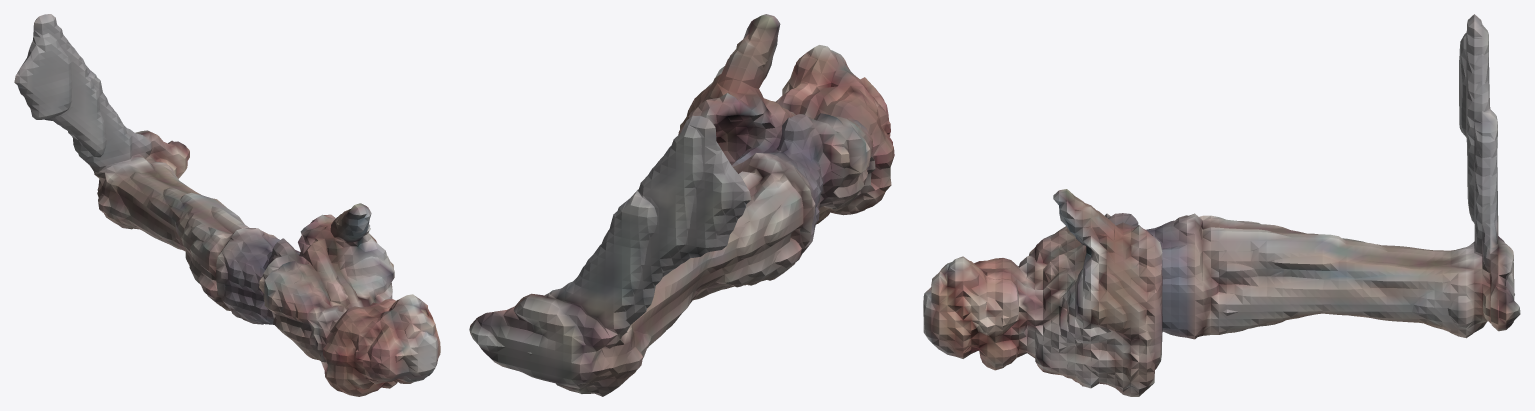
Rendered from modern_scholar_f_0.glb.
3 renders of one model, left to right at view 1: azimuth 30°, elevation 25°; view 2: azimuth 150°, elevation 25°; view 3: azimuth 270°, elevation 25°, orthographic. The views are drawn at different scales.
Parts seen in each view (by area): view 1: world; view 2: world; view 3: world.
Boxes of the visible parts, <box> form: world: <box>14,14,440,396</box>; world: <box>469,14,894,396</box>; world: <box>923,14,1520,396</box>.
Size of the model in its own units: 0.4841 by 0.5601 by 1.02.
